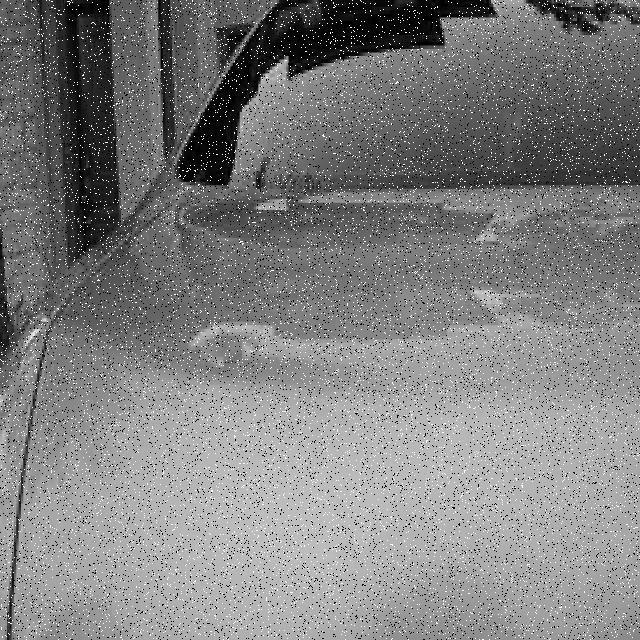bonnet-dent: (26, 232, 638, 637)
